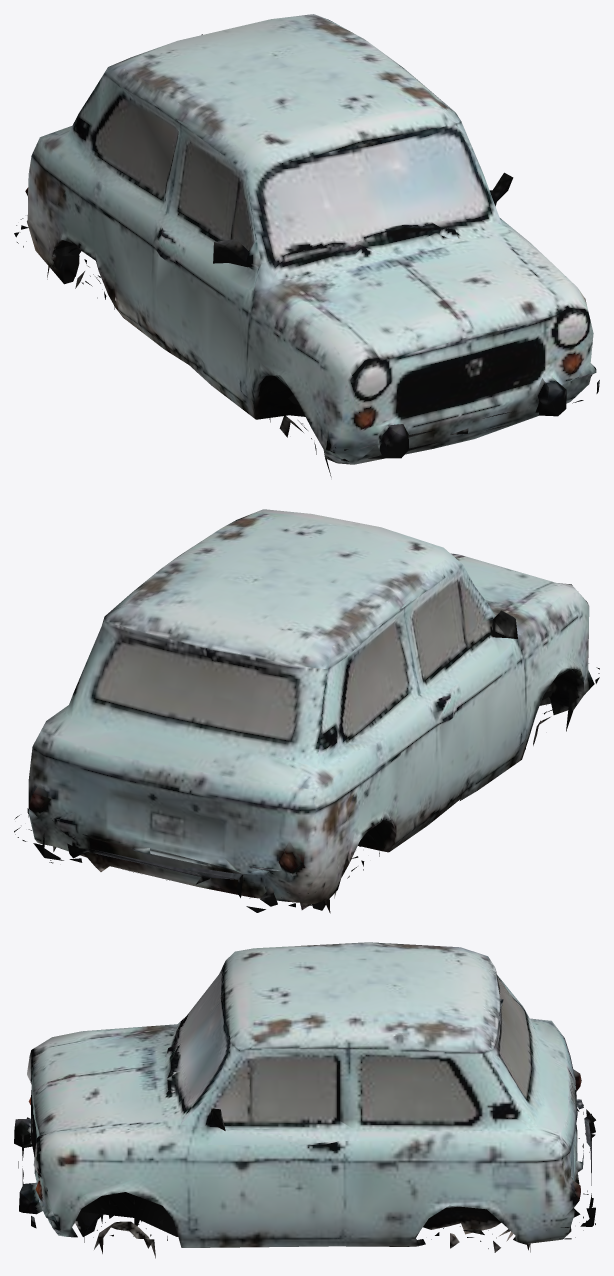
The model's file is car-trabi.glb.
3 views of the same model, one above another, from view 1: azimuth 30°, elevation 25°; view 2: azimuth 150°, elevation 25°; view 3: azimuth 270°, elevation 25° (orthographic). The views are drawn at different scales.
Visible parts, largest first — view 1: trabi-low-chk; view 2: trabi-low-chk; view 3: trabi-low-chk.
Boxes of the visible parts, box(x1,y1,x2,y2) form: trabi-low-chk: box(14, 14, 599, 477); trabi-low-chk: box(14, 509, 599, 913); trabi-low-chk: box(14, 942, 595, 1258).
Size of the model in its own units: 1.91 by 1.54 by 3.56.
1 material, 1 textured.
